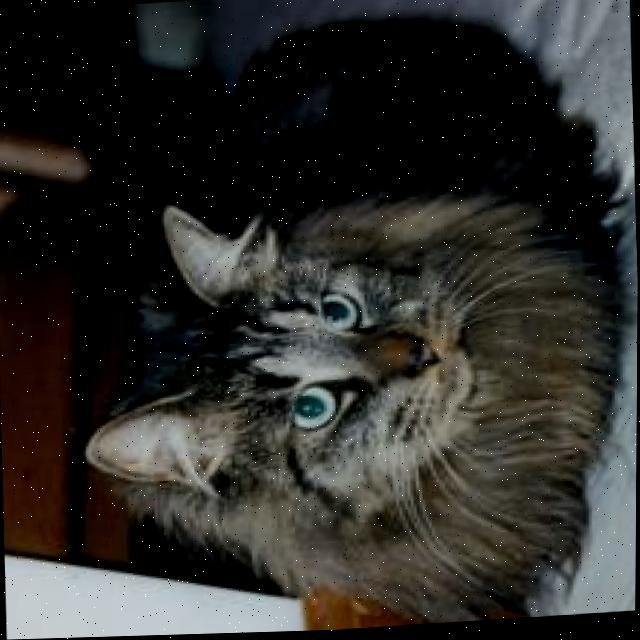Maine Coon: (55, 0, 640, 639)
